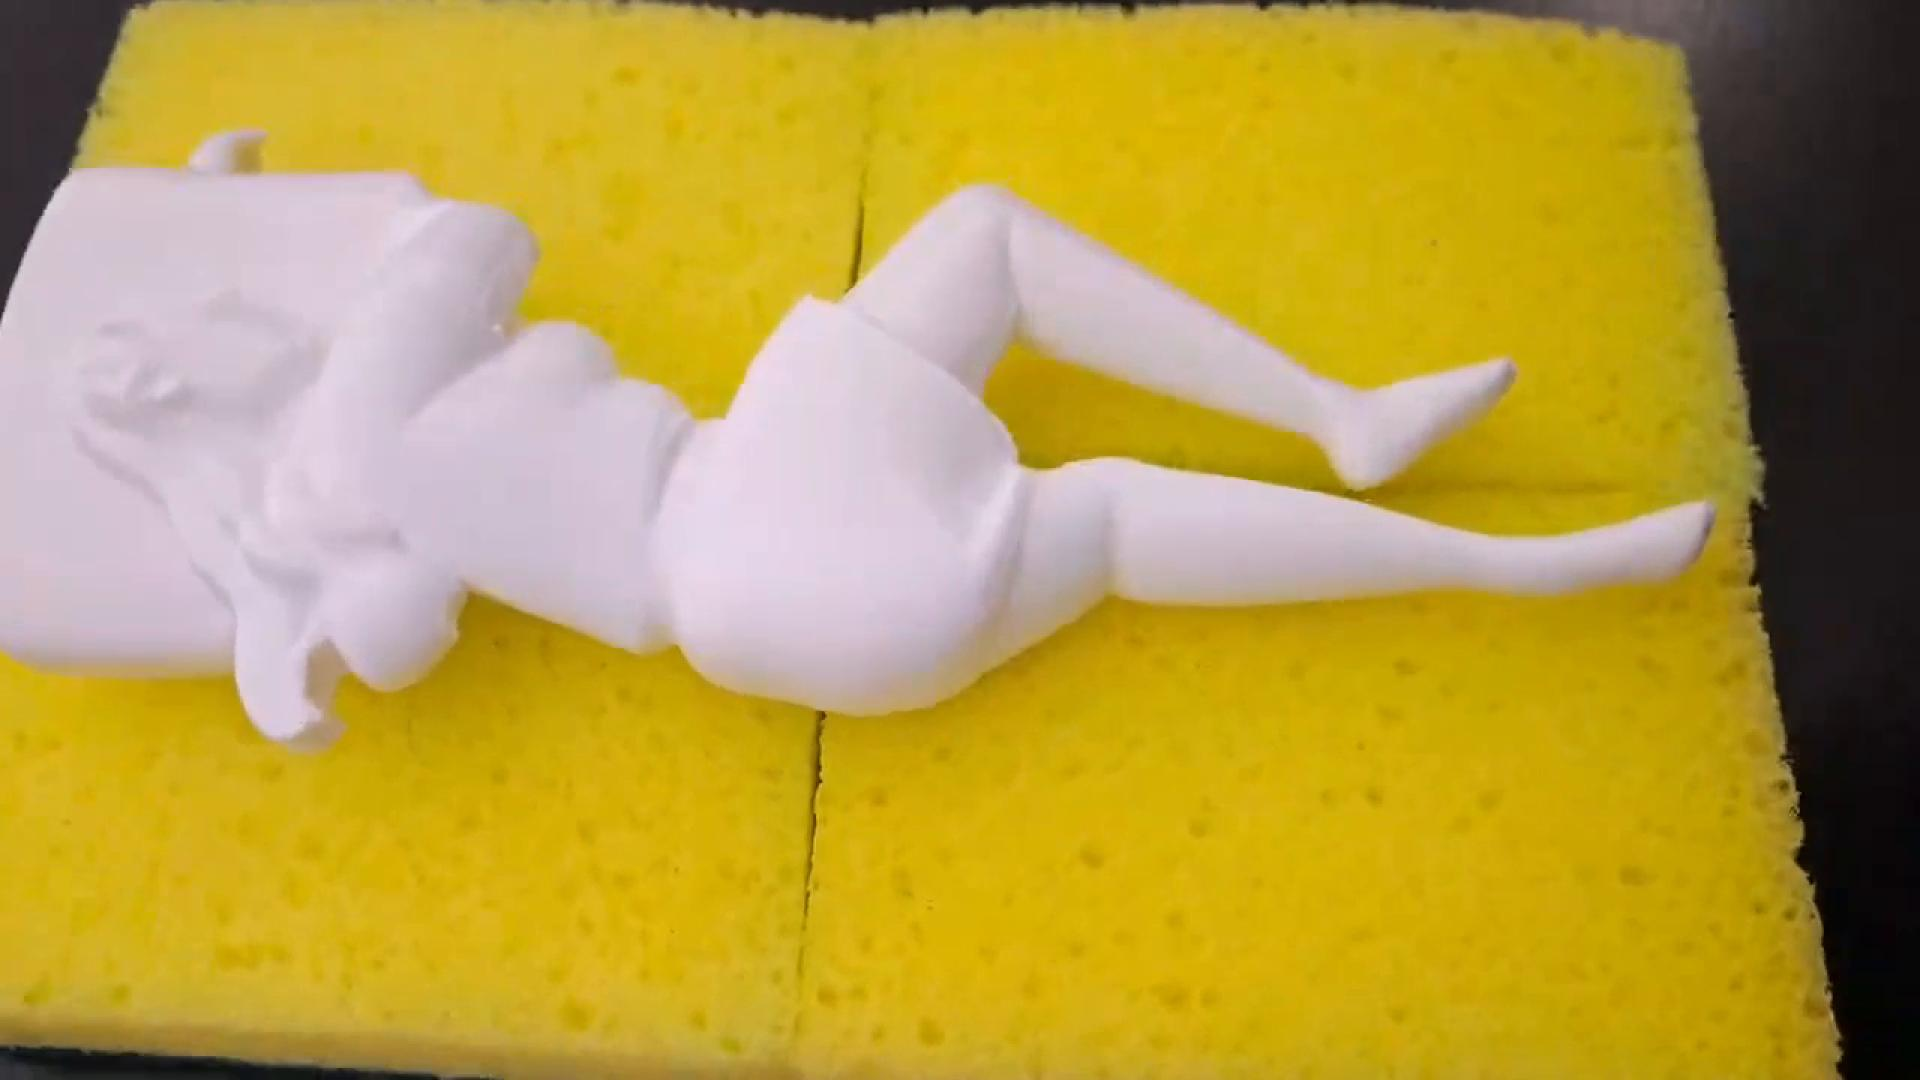Good-style: (0, 160, 1778, 746)
